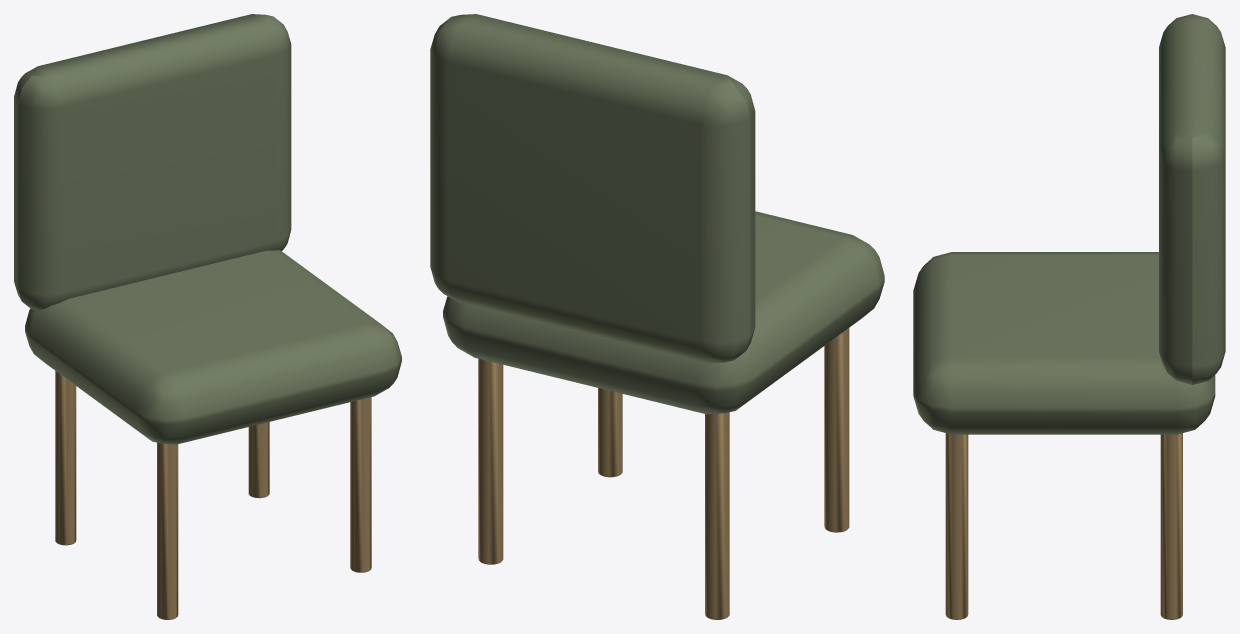
File: stool.glb
The picture shows the model from 3 angles, left to right: view 1: azimuth 30°, elevation 25°; view 2: azimuth 150°, elevation 25°; view 3: azimuth 270°, elevation 25°; orthographic projection. The views are drawn at different scales.
Visible parts, largest first — view 1: Island stool back.003, Island stool seat.003, Island stool bronze leg.012, Island stool bronze leg.014, Island stool bronze leg.013, Island stool bronze leg.015; view 2: Island stool back.003, Island stool seat.003, Island stool bronze leg.015, Island stool bronze leg.013, Island stool bronze leg.012, Island stool bronze leg.014; view 3: Island stool seat.003, Island stool back.003, Island stool bronze leg.014, Island stool bronze leg.015.
Part boxes in pixels (x1,y1,x2,y2): Island stool back.003: (14,14,291,310); Island stool seat.003: (25,250,401,444); Island stool bronze leg.012: (157,442,178,619); Island stool bronze leg.014: (350,397,371,572); Island stool bronze leg.013: (55,371,76,545); Island stool bronze leg.015: (248,422,269,498); Island stool back.003: (430,14,755,363); Island stool seat.003: (443,211,884,414); Island stool bronze leg.015: (478,358,503,564); Island stool bronze leg.013: (705,412,729,619); Island stool bronze leg.012: (824,328,849,532); Island stool bronze leg.014: (598,388,622,477); Island stool seat.003: (913,252,1215,434); Island stool back.003: (1159,14,1225,384); Island stool bronze leg.014: (945,433,968,619); Island stool bronze leg.015: (1160,433,1182,619).
Bounding box in the file's own units: 0.64 × 1.06 × 0.61.
